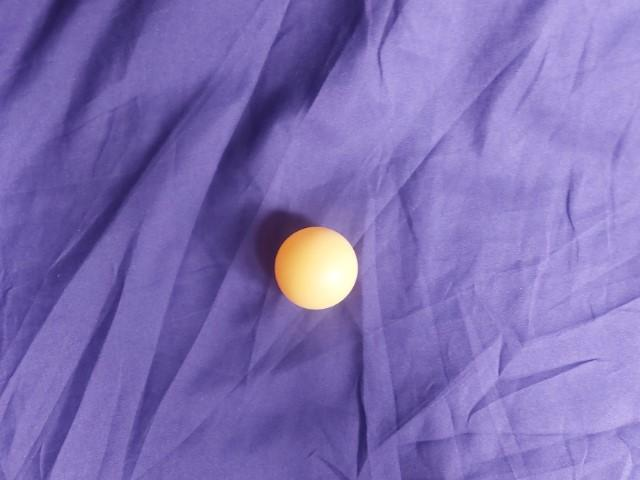oball: (272, 163, 372, 260)
